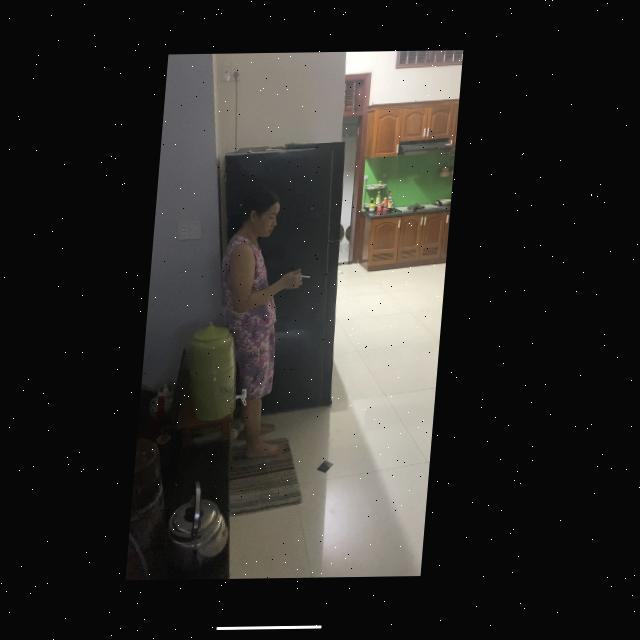cigarette: (305, 277, 314, 279)
